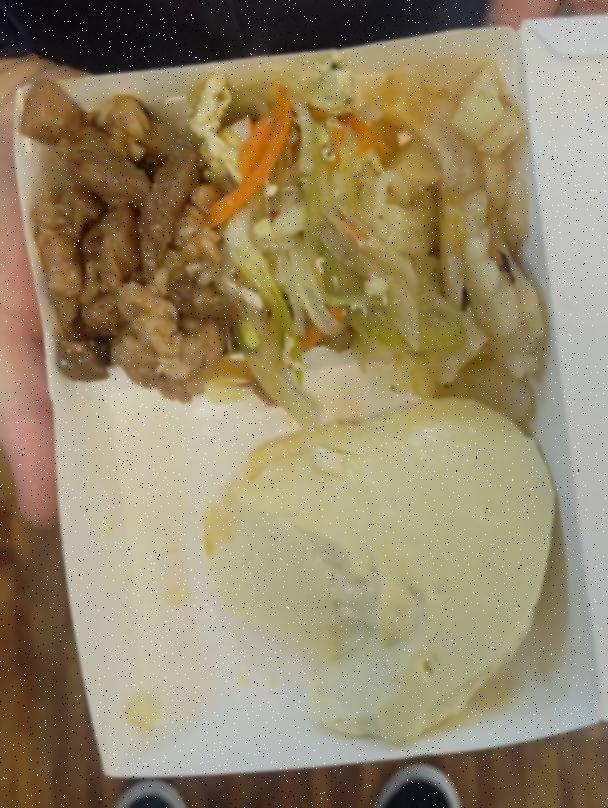box: (6, 19, 568, 792)
shacha pork: (14, 77, 228, 390)
side dish: (197, 389, 556, 744), (364, 58, 544, 407), (208, 68, 381, 381)
